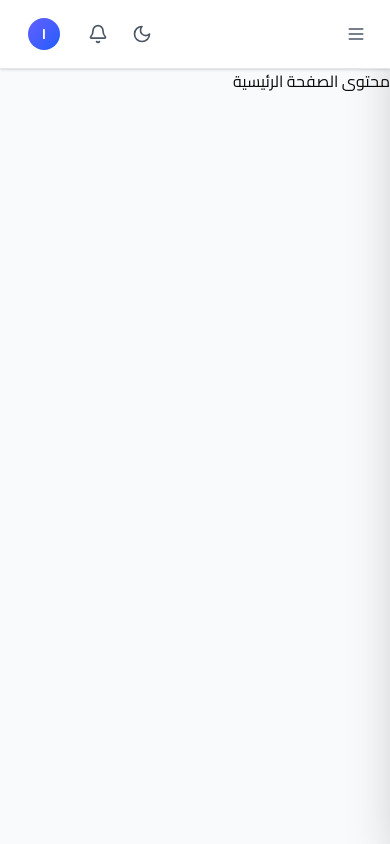
Test: SharedLayout Sidebar RTL & Collapse/Expand Direction › toggles mobile sidebar between closed (Menu / hamburger) and open (X) icon state
The width and height of the screenshot is (390, 844).
Check: the icon with class "lucide-menu" is shown, box x1=346 y1=24 x2=366 y2=44
Click to open mobile menu
Click the button named "Open menu". click: x=356, y=34
box: x1=338 y1=16 x2=374 y2=52
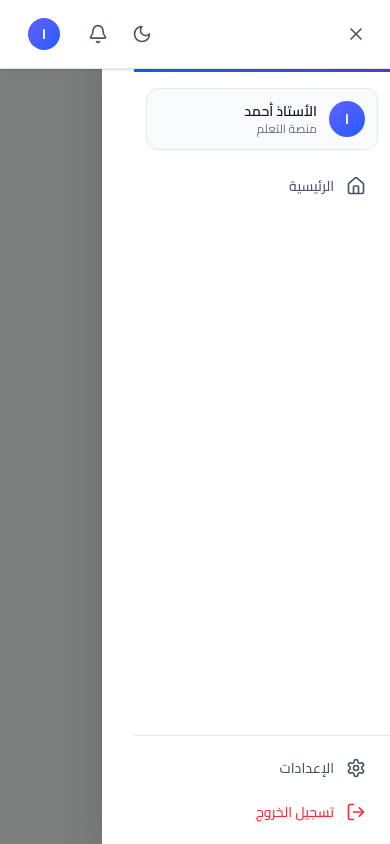
Check: the button named "Close menu" is shown
Check: the button named "Close menu" is expanded
Check: the 2nd icon with class "lucide-x" is shown, box x1=346 y1=24 x2=366 y2=44
Click to close mobile menu
Click the button named "Close menu". click: x=356, y=34
box: x1=338 y1=16 x2=374 y2=52
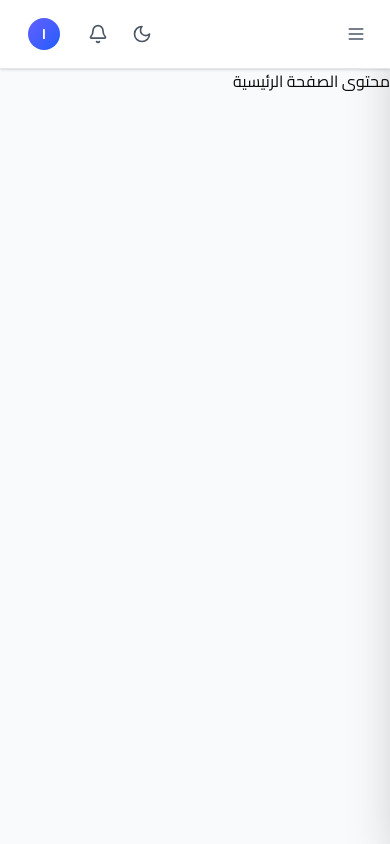
Check: the button named "Open menu" is collapsed, box x1=338 y1=16 x2=374 y2=52
Check: the icon with class "lucide-menu" is shown, box x1=346 y1=24 x2=366 y2=44
